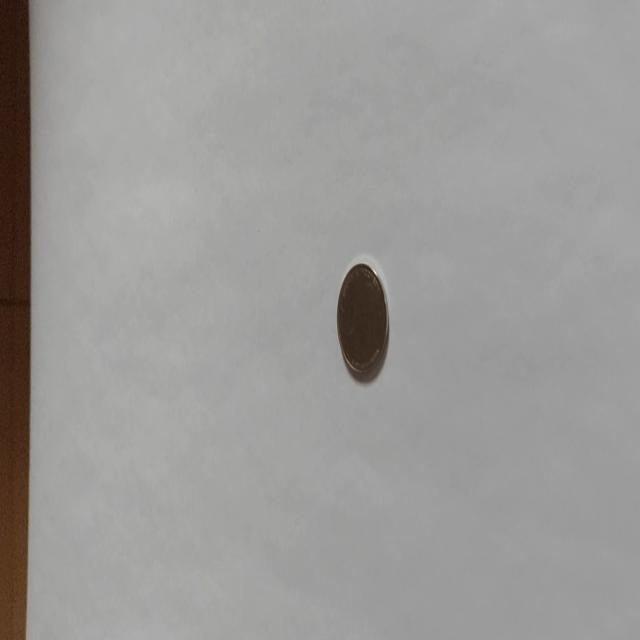seribu rupiah koin: (335, 256, 390, 382)
